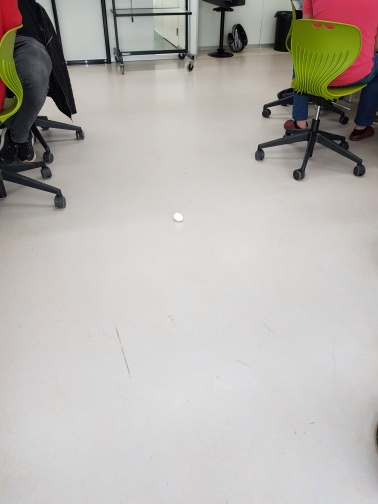egg: (171, 211, 184, 223)
